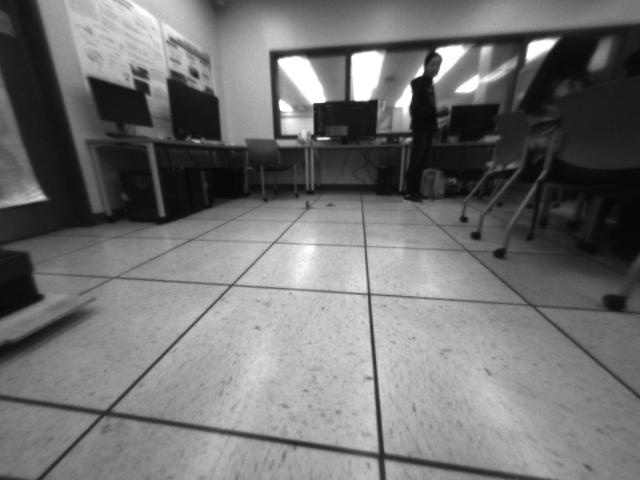X: (299, 199, 316, 211)
